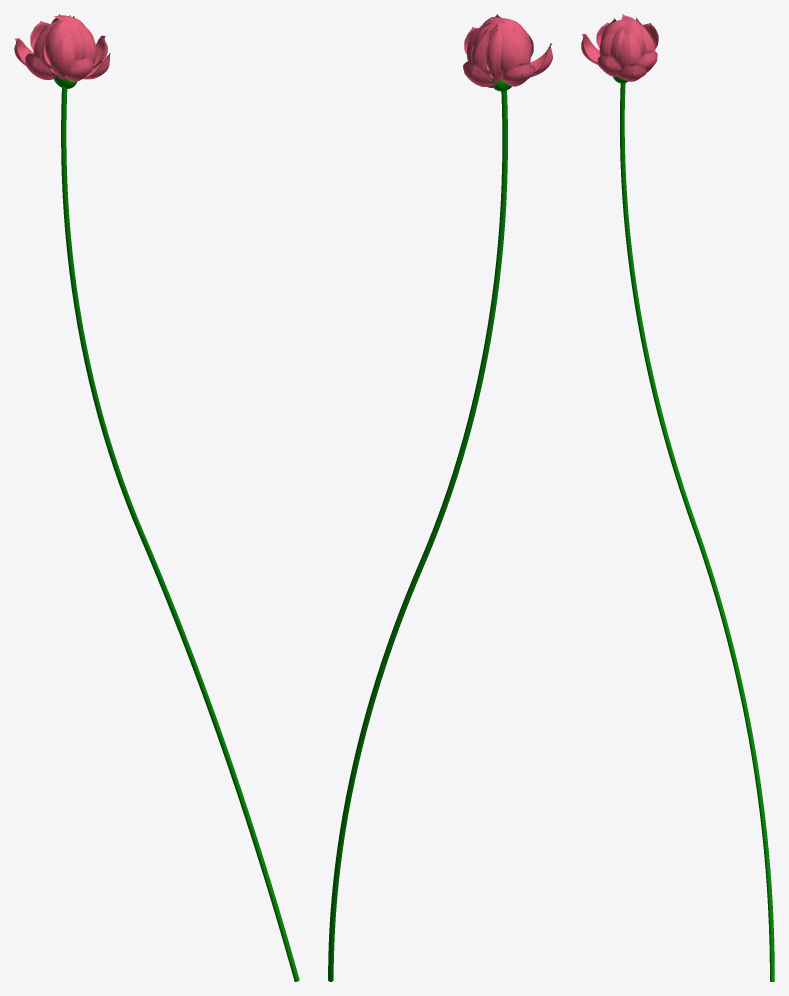
Rendered from Lotus043.fbx.
3 views of the same model, side by side, from view 1: azimuth 30°, elevation 25°; view 2: azimuth 150°, elevation 25°; view 3: azimuth 330°, elevation 25° (orthographic). The views are drawn at different scales.
Visible parts, largest first — view 1: pCylinder5, nurbsToPoly16; view 2: pCylinder5, nurbsToPoly23, nurbsToPoly14, nurbsToPoly12, nurbsToPoly10, nurbsToPoly17, nurbsToPoly20; view 3: pCylinder5, nurbsToPoly13.
Boxes of the visible parts, bbox=[...] form: pCylinder5: bbox=[61, 88, 299, 981]; nurbsToPoly16: bbox=[50, 32, 75, 79]; pCylinder5: bbox=[328, 90, 507, 981]; nurbsToPoly23: bbox=[486, 26, 501, 81]; nurbsToPoly14: bbox=[509, 27, 530, 68]; nurbsToPoly12: bbox=[501, 63, 535, 86]; nurbsToPoly10: bbox=[463, 61, 499, 86]; nurbsToPoly17: bbox=[471, 28, 498, 87]; nurbsToPoly20: bbox=[497, 23, 512, 76]; pCylinder5: bbox=[620, 83, 774, 981]; nurbsToPoly13: bbox=[618, 29, 641, 68].
Size of the model in its own units: 51.7 by 203 by 23.4.
